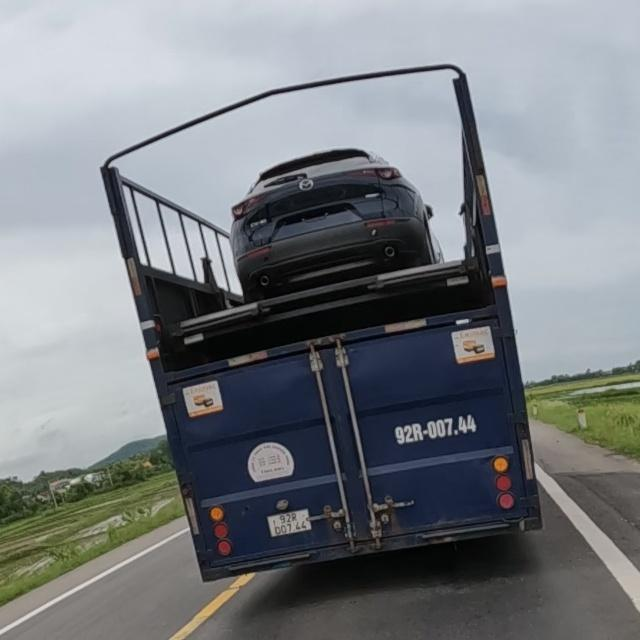license-plate: (265, 508, 312, 538)
